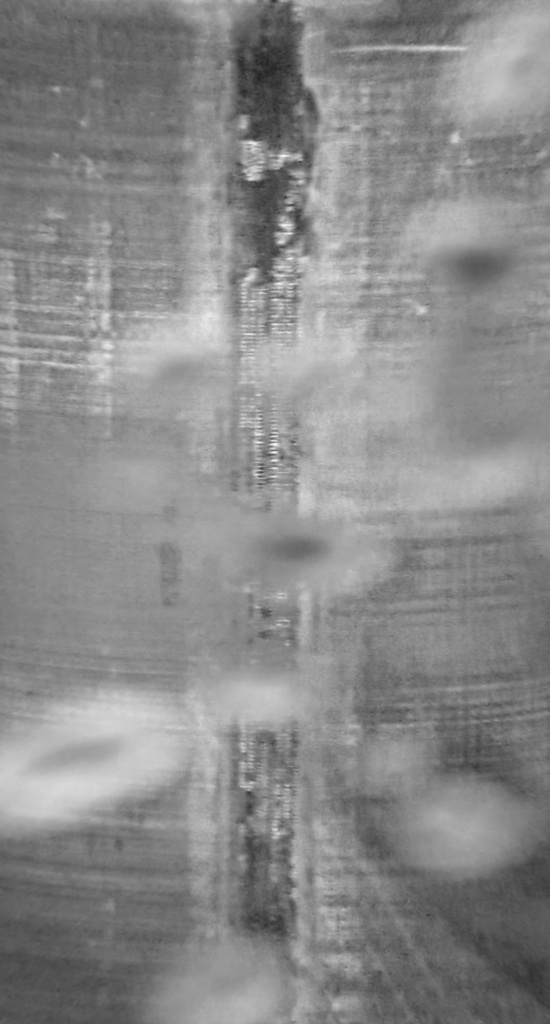splice: (224, 1, 321, 1023)
